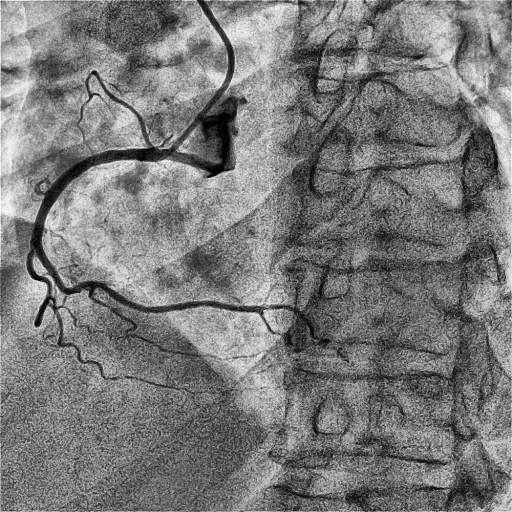pborca: (264, 304, 314, 338)
pda: (258, 312, 276, 334)
rca: (31, 148, 263, 313)
